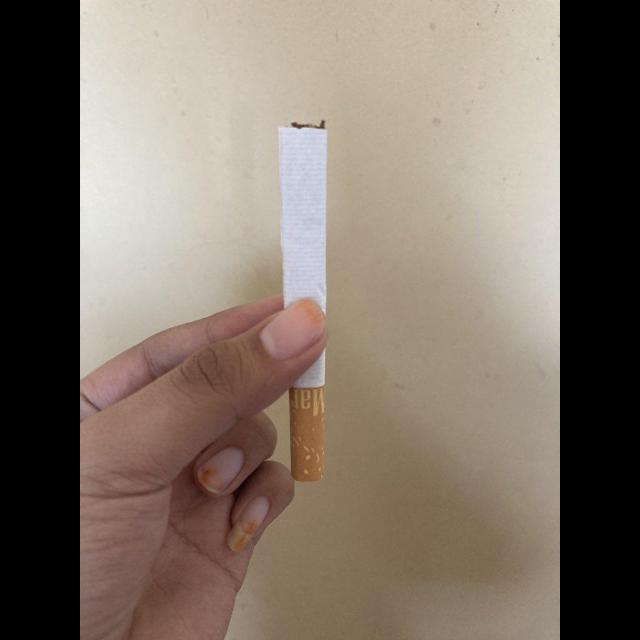rokok: (272, 112, 328, 490)
